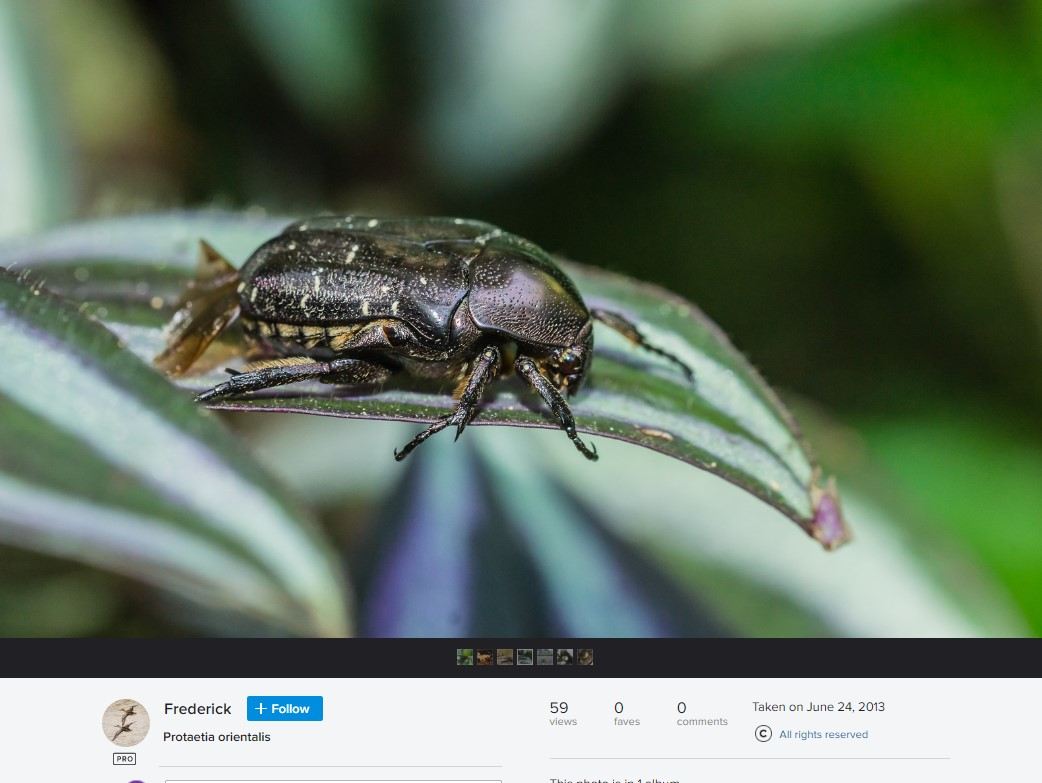Protaetia _orientalis: (180, 187, 704, 459)
